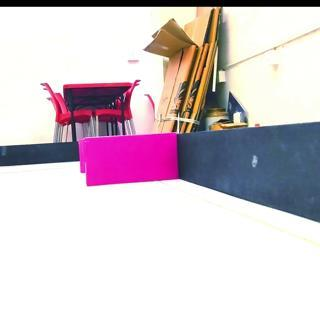xparking: (77, 133, 178, 187)
